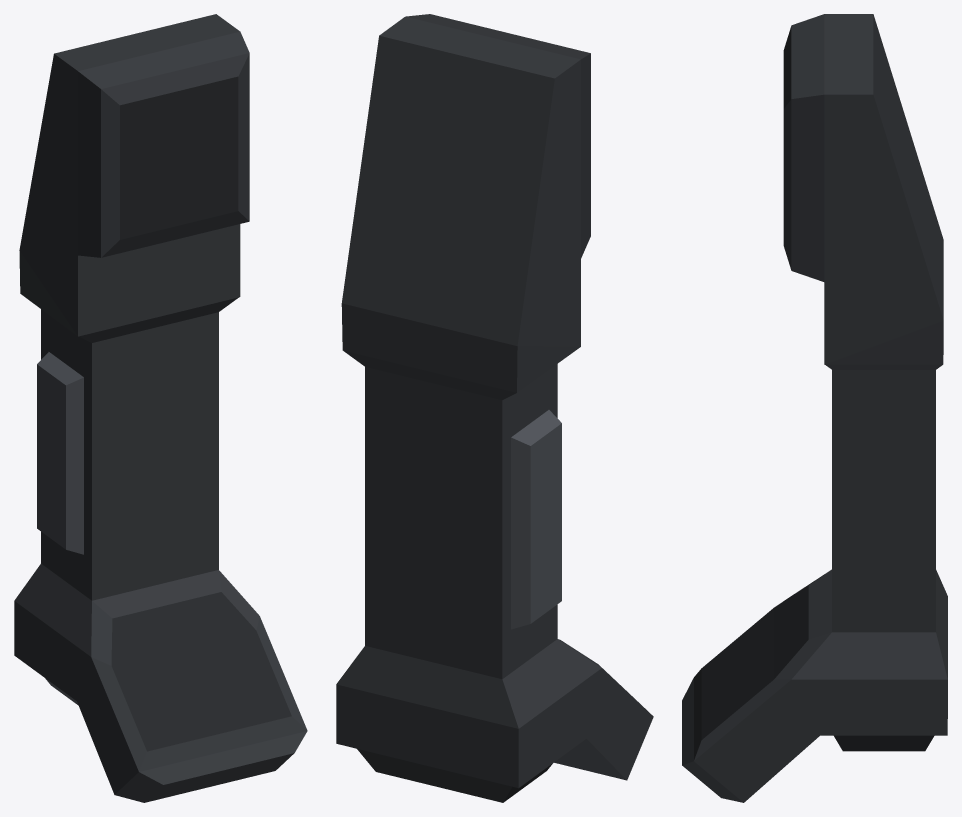
The model's file is SM_Prop_RadioPhone_01.fbx.
3 views of the same model, side by side, from view 1: azimuth 30°, elevation 25°; view 2: azimuth 150°, elevation 25°; view 3: azimuth 270°, elevation 25° (orthographic). The views are drawn at different scales.
Visible parts, largest first — view 1: SM_Prop_RadioPhone_01; view 2: SM_Prop_RadioPhone_01; view 3: SM_Prop_RadioPhone_01.
Part boxes in pixels (bbox=[...]): SM_Prop_RadioPhone_01: bbox=[14, 14, 307, 802]; SM_Prop_RadioPhone_01: bbox=[336, 14, 653, 802]; SM_Prop_RadioPhone_01: bbox=[682, 14, 947, 802].
Size of the model in its own units: 8.24 by 32.63 by 11.05.
